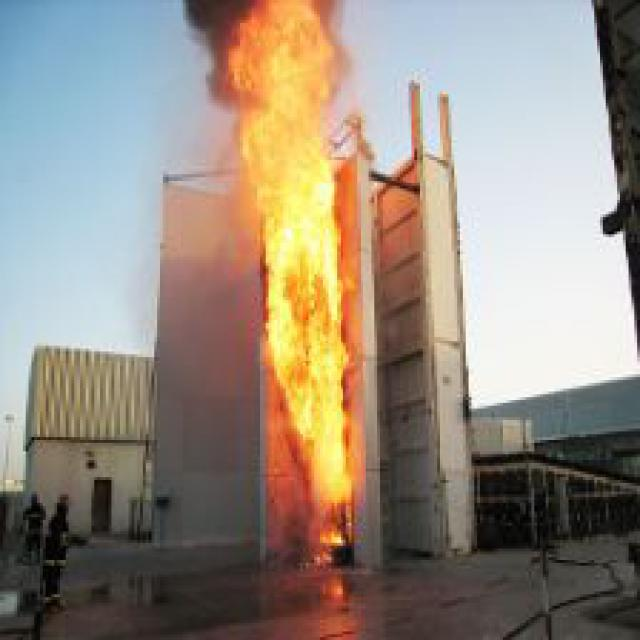fire: (192, 6, 412, 563)
